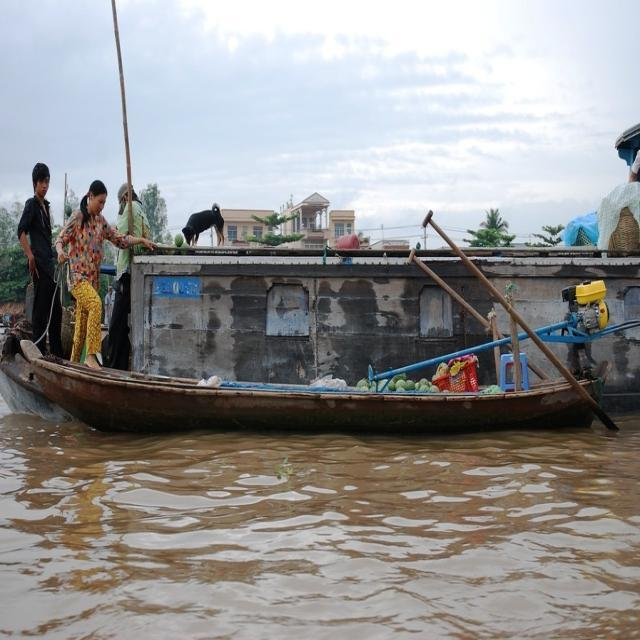boat: (9, 332, 608, 436)
